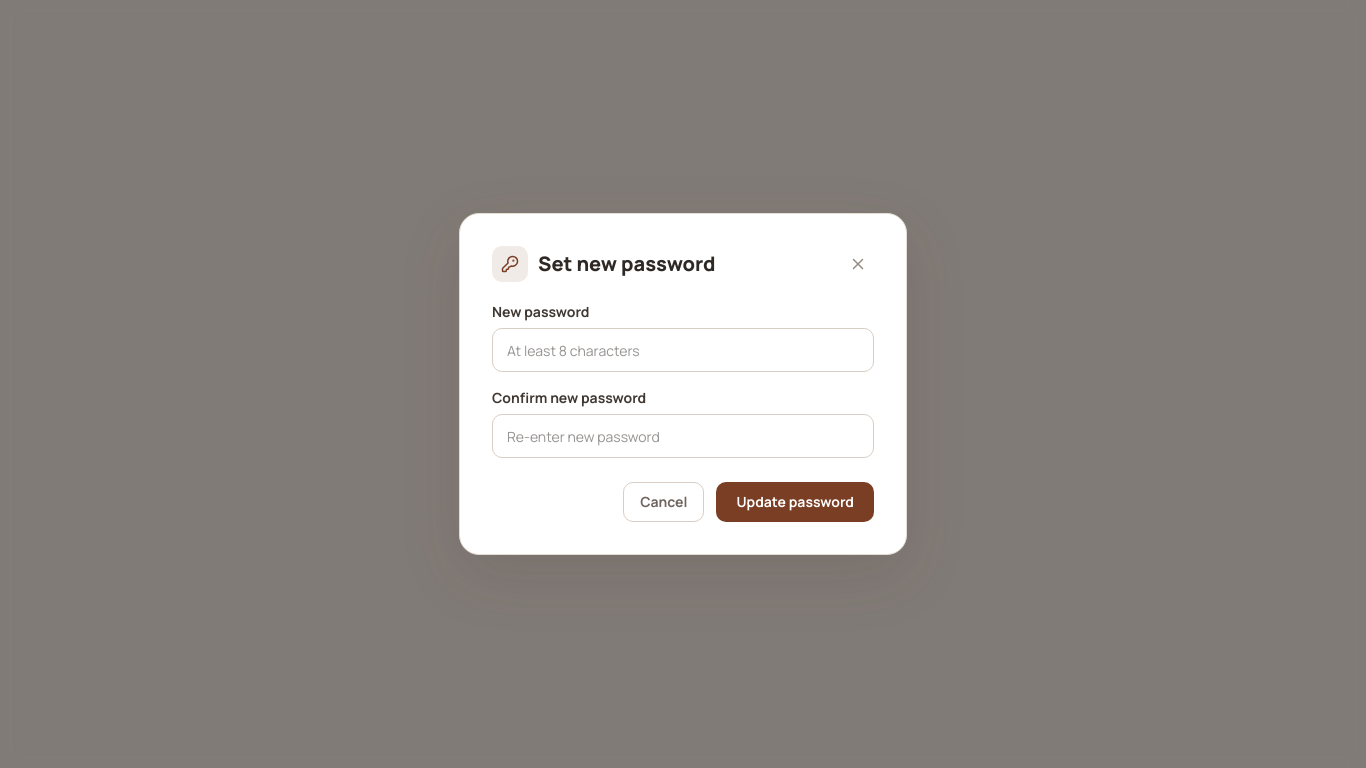
Test: PasswordResetDialog › reports sign-out failure and does not finish recovery
Step 1. Type "replacement-password" into the password field labelled "New password" → coordinates (683, 350), box [492,328,874,372]
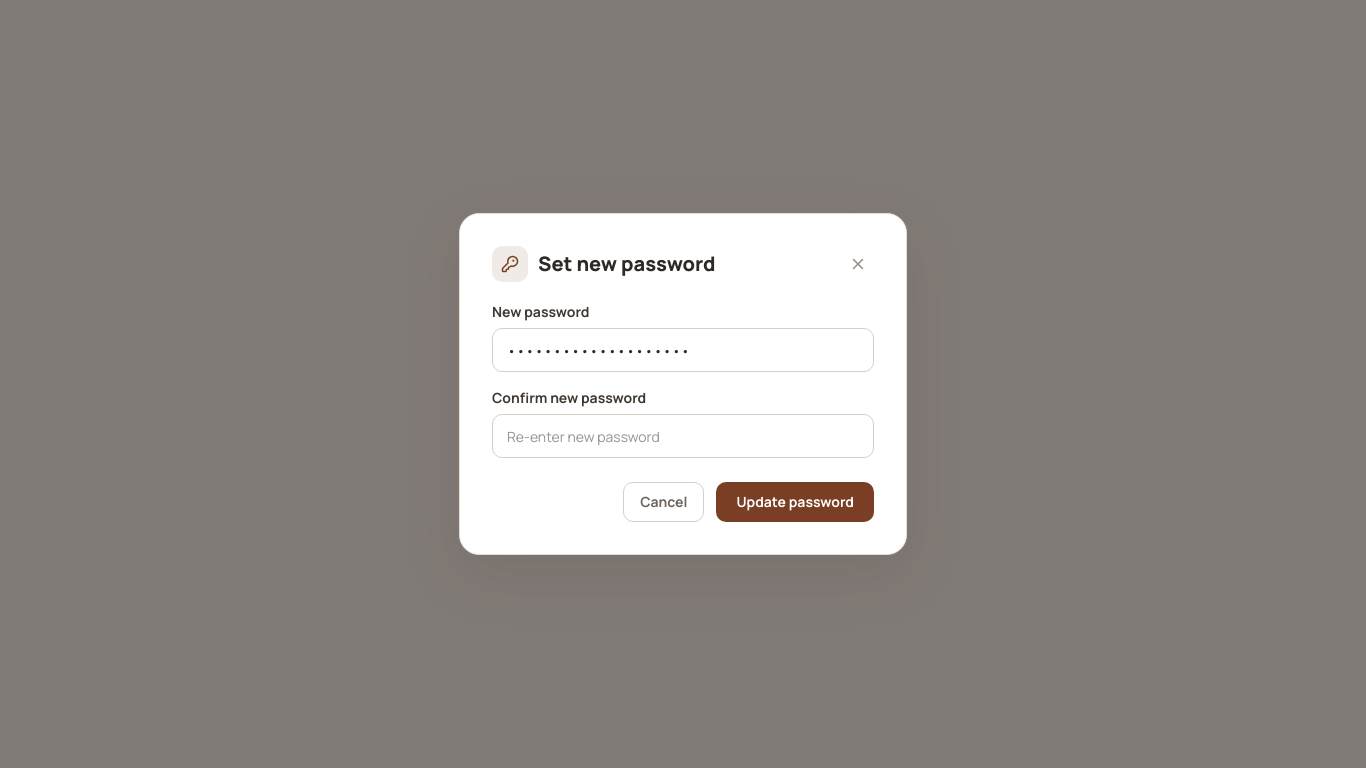
Step 2. Type "replacement-password" into the password field labelled "Confirm new password" → coordinates (683, 436), box [492,414,874,458]
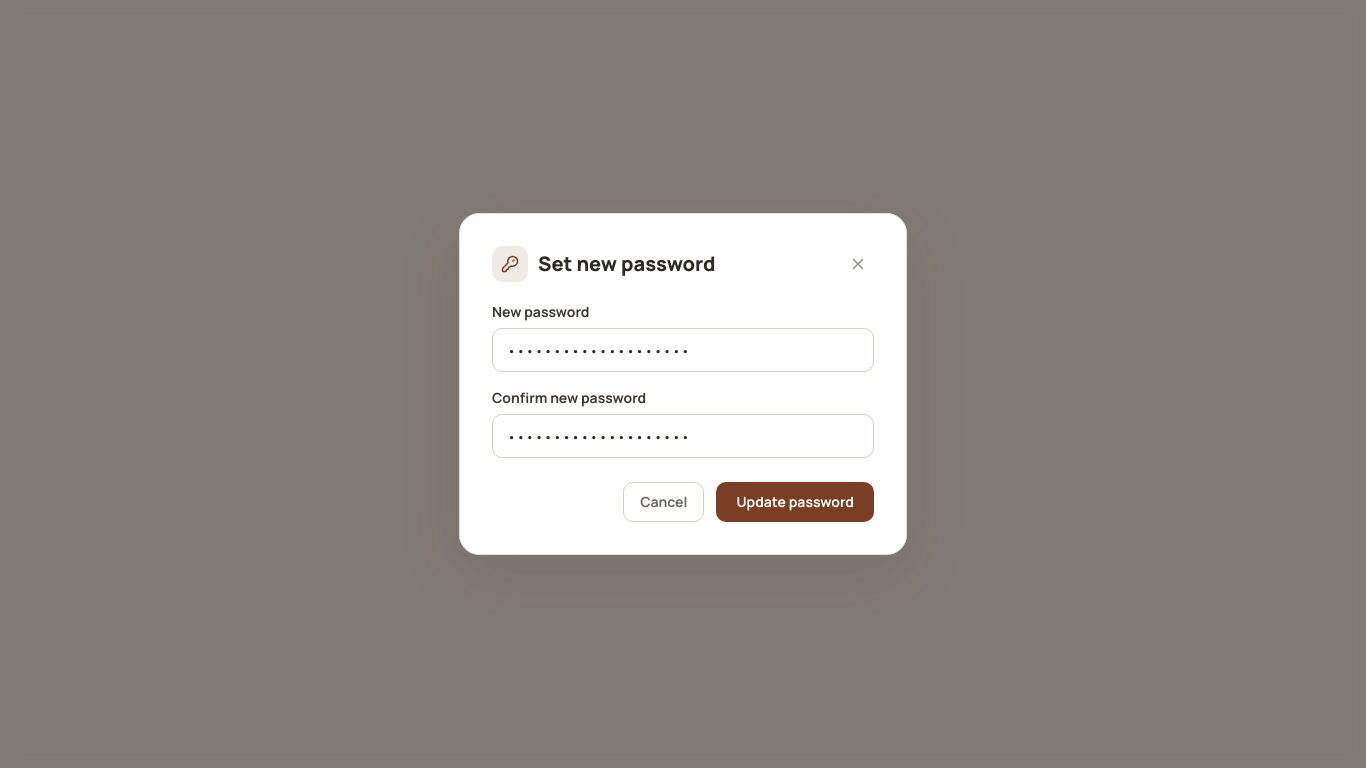
Step 3. Click the button "Update password" → coordinates (795, 502), box [716,482,874,522]
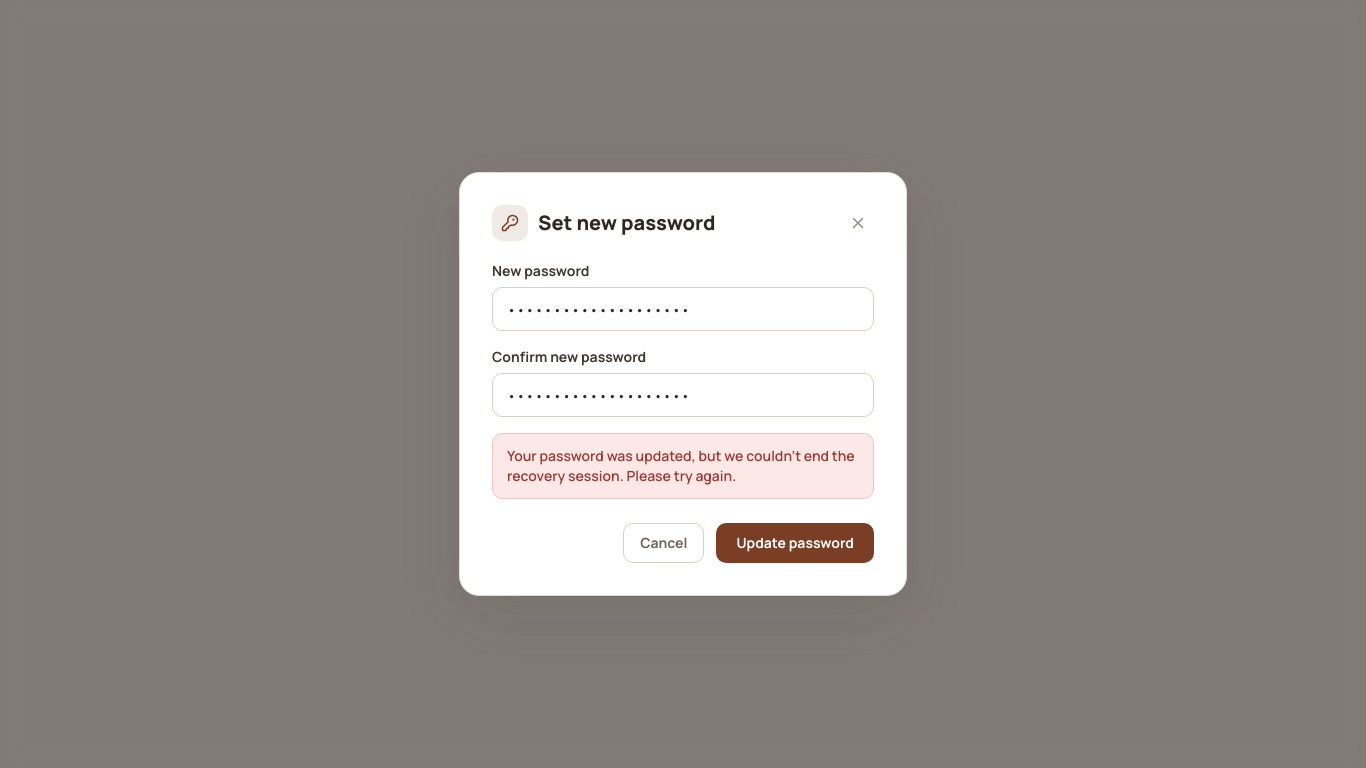
Expected: the message shows "couldn't end the recovery session", [507,446,855,485]
